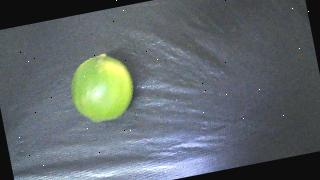LOCAL: (66, 49, 139, 126)
